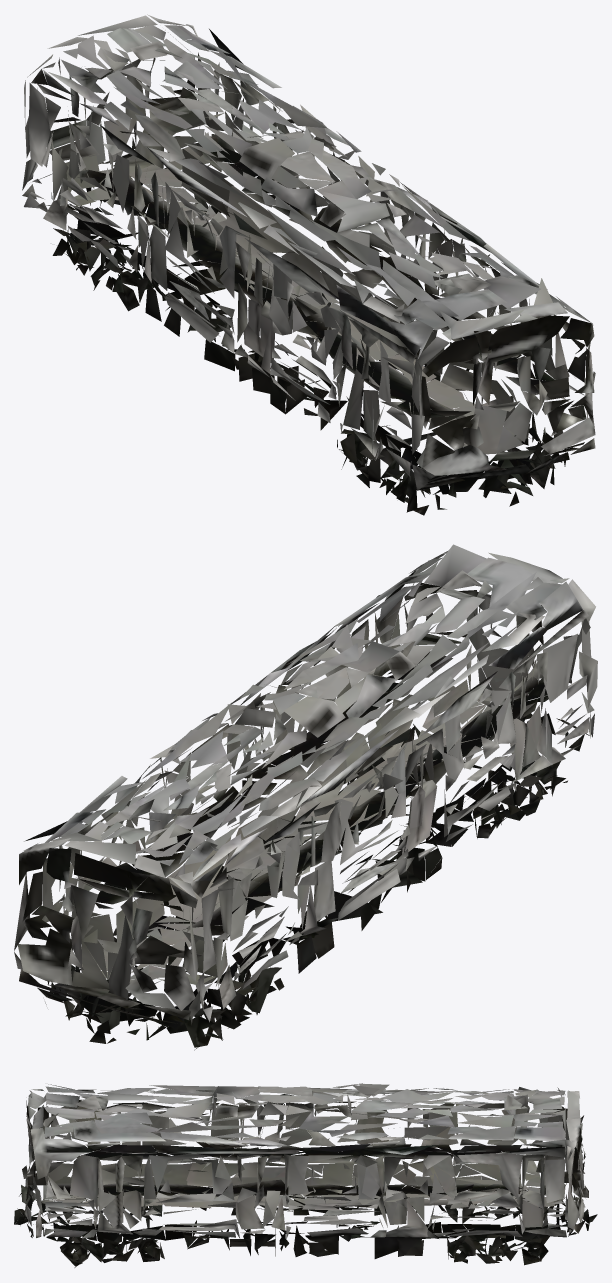
The model's file is subway_car.glb.
3 renders of one model, top to bottom at view 1: azimuth 30°, elevation 25°; view 2: azimuth 150°, elevation 25°; view 3: azimuth 270°, elevation 25°, orthographic. The views are drawn at different scales.
Parts seen in each view (by area): view 1: tripo_node_850b30e2-8202-47f7-8c36-bddd7a689659; view 2: tripo_node_850b30e2-8202-47f7-8c36-bddd7a689659; view 3: tripo_node_850b30e2-8202-47f7-8c36-bddd7a689659.
Boxes of the visible parts, x1,y1,x2,y2 form: tripo_node_850b30e2-8202-47f7-8c36-bddd7a689659: (22, 14, 595, 515); tripo_node_850b30e2-8202-47f7-8c36-bddd7a689659: (14, 544, 597, 1050); tripo_node_850b30e2-8202-47f7-8c36-bddd7a689659: (14, 1083, 597, 1267).
Bounding box in the file's own units: 0.2618 × 0.2954 × 0.978.
Materials: 1 (1 with a texture image).
